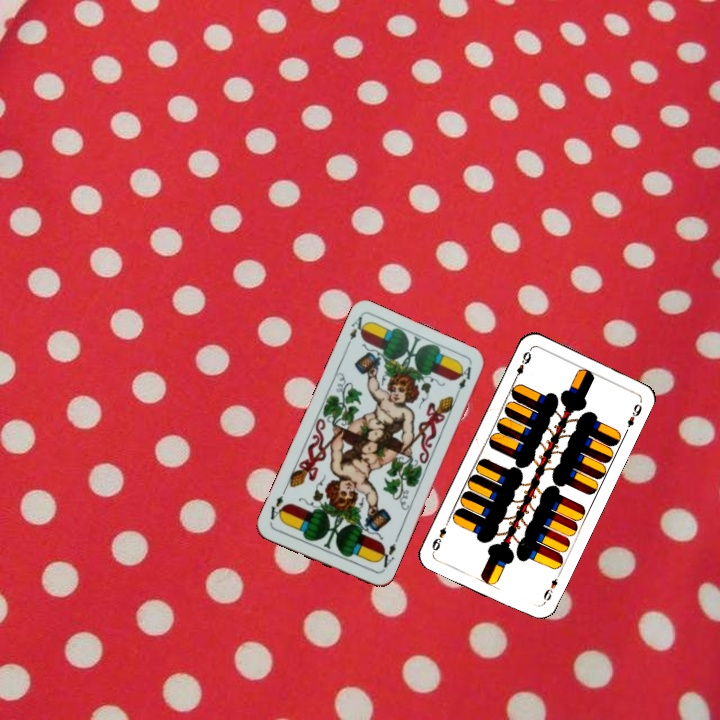E9: (510, 346, 534, 384), (539, 569, 563, 607)
EA: (341, 312, 369, 351), (374, 535, 401, 574)
